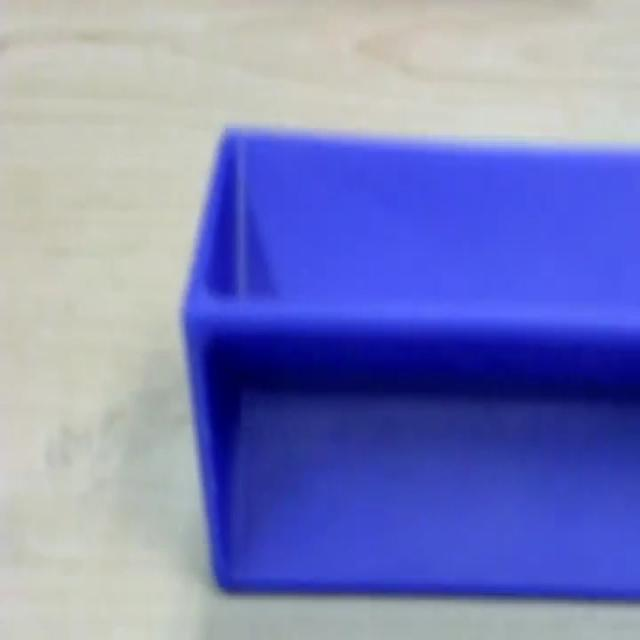blue_block: (180, 121, 638, 602)
